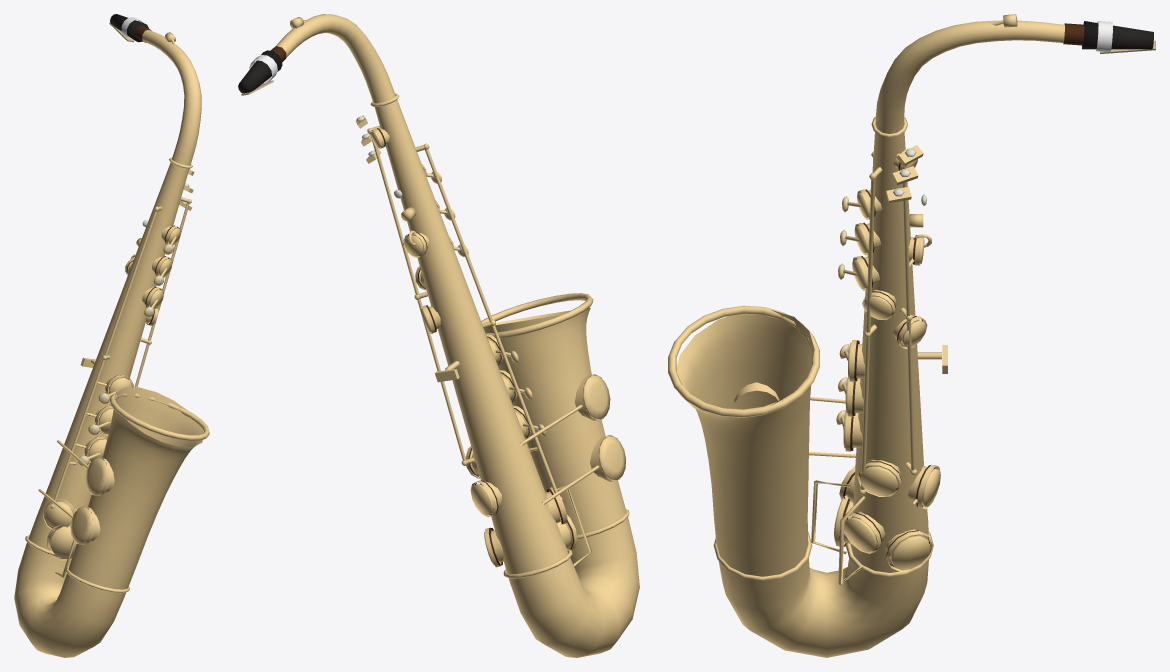
The model's file is instr_sax.glb.
3 views of the same model, side by side, from view 1: azimuth 30°, elevation 25°; view 2: azimuth 150°, elevation 25°; view 3: azimuth 270°, elevation 25° (orthographic). The views are drawn at different scales.
Visible parts, largest first — view 1: sax_saxbrass, sax_leather, sax_ebony; view 2: sax_saxbrass, sax_leather, sax_ebony; view 3: sax_saxbrass, sax_leather, sax_ebony.
Boxes of the visible parts, x1=… form: sax_saxbrass: x1=14, y1=30, x2=209, y2=657; sax_leather: x1=44, y1=25, x2=177, y2=558; sax_ebony: x1=110, y1=14, x2=148, y2=42; sax_saxbrass: x1=275, y1=14, x2=639, y2=657; sax_leather: x1=271, y1=46, x2=574, y2=565; sax_ebony: x1=238, y1=50, x2=282, y2=93; sax_saxbrass: x1=668, y1=14, x2=1064, y2=657; sax_leather: x1=839, y1=23, x2=1084, y2=566; sax_ebony: x1=1081, y1=21, x2=1153, y2=49.
Bounding box in the file's own units: 0.3613 × 0.8726 × 0.504.
